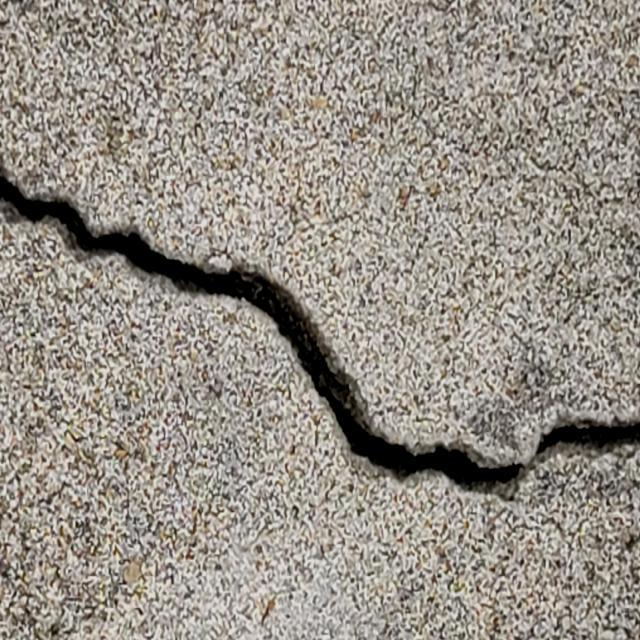SurfaceCrack: (1, 100, 640, 528)
